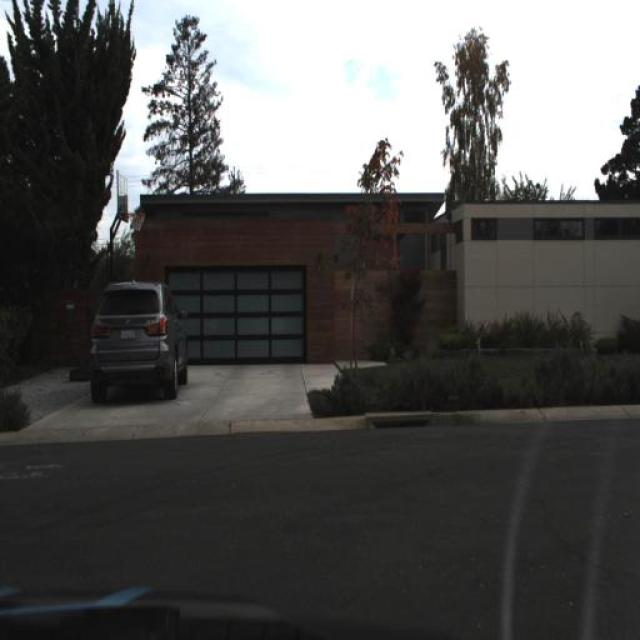car: (86, 278, 190, 396)
